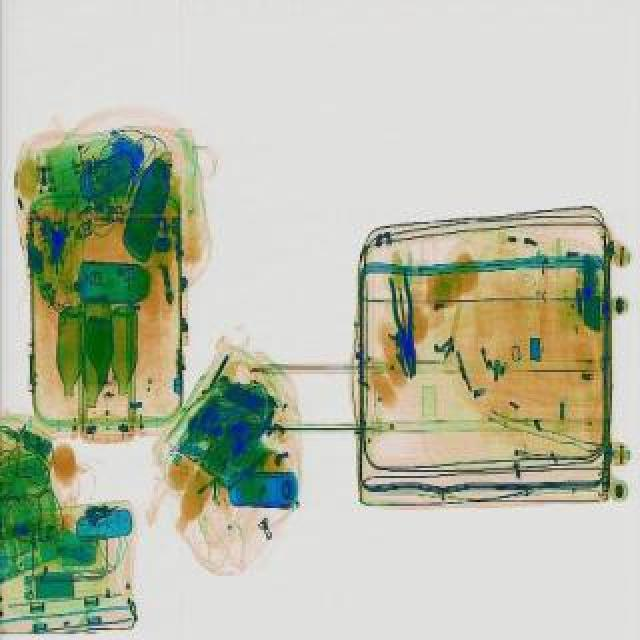wrench: (386, 268, 424, 378)
